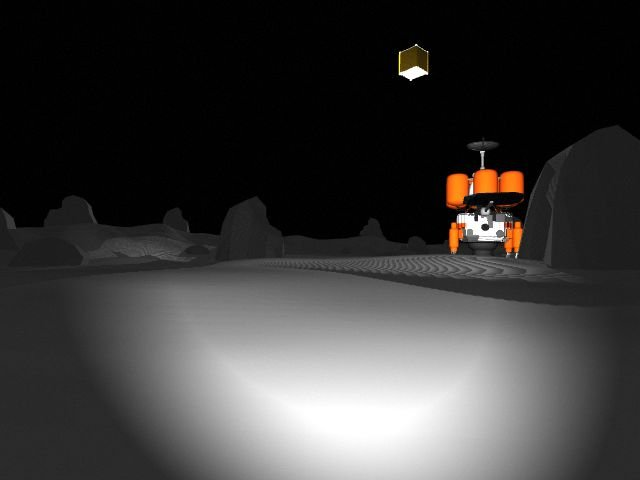cubesat: (391, 40, 434, 89)
